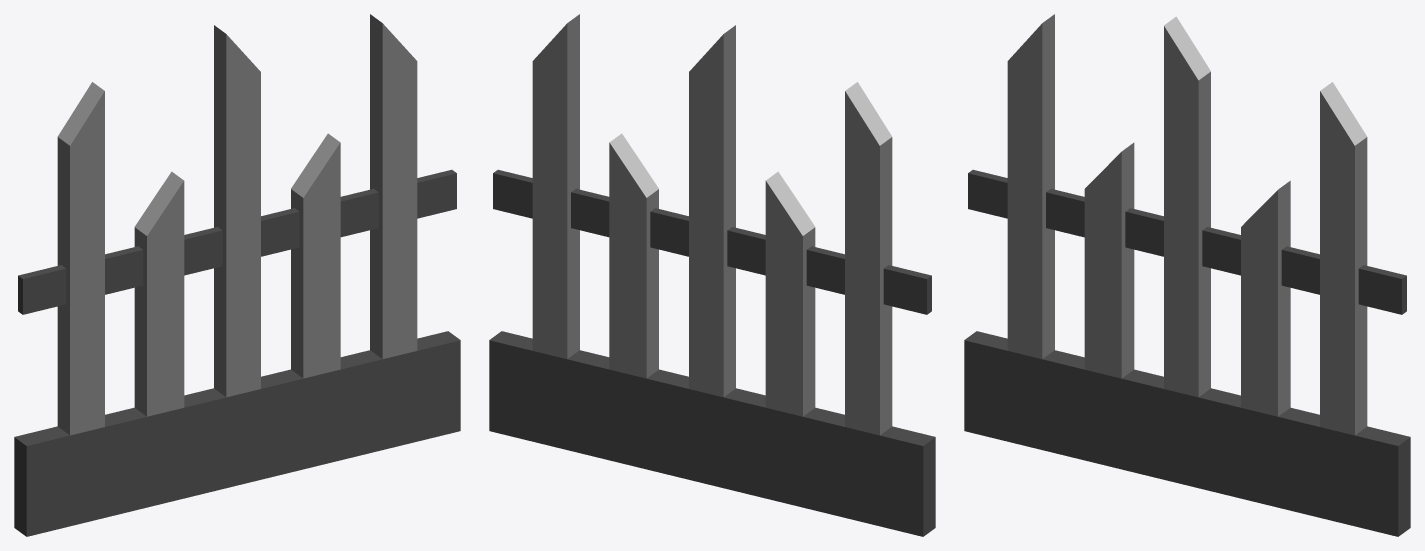
File: NormalFence.fbx
3 renders of one model, left to right at view 1: azimuth 30°, elevation 25°; view 2: azimuth 150°, elevation 25°; view 3: azimuth 330°, elevation 25°, orthographic.
Visible parts, largest first — view 1: NormalFence; view 2: NormalFence; view 3: NormalFence.
Boxes of the visible parts, x1=… form: NormalFence: x1=14, y1=14, x2=460, y2=536; NormalFence: x1=489, y1=14, x2=935, y2=536; NormalFence: x1=964, y1=14, x2=1410, y2=536.
Size of the model in its own units: 200 by 200 by 10.
